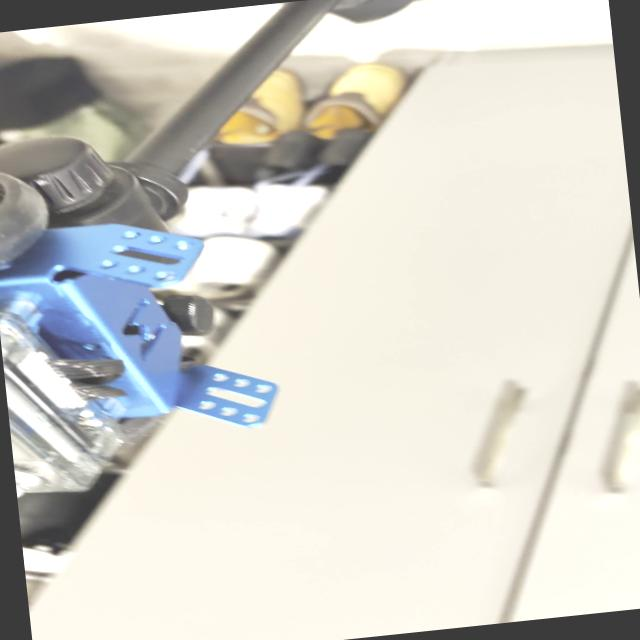mbot-detection: (0, 131, 294, 500)
